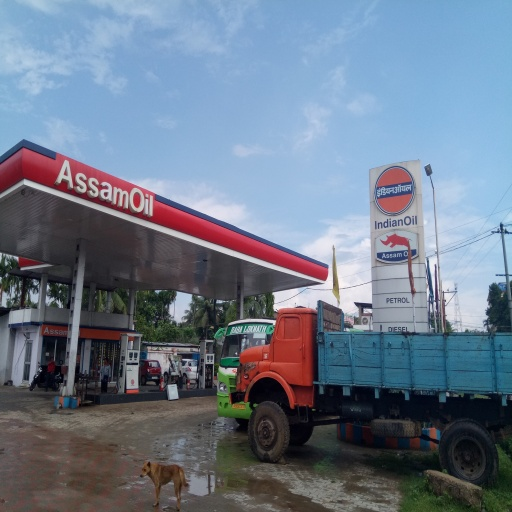roof: (1, 135, 327, 303)
